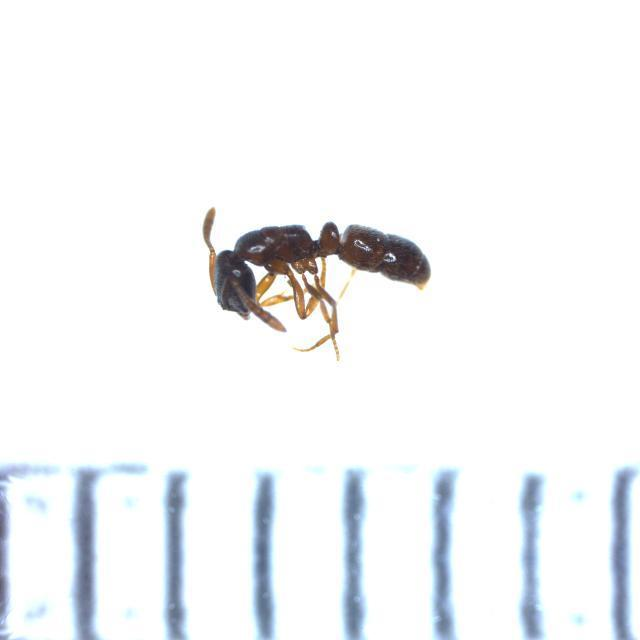Ponera: (180, 174, 450, 350)
